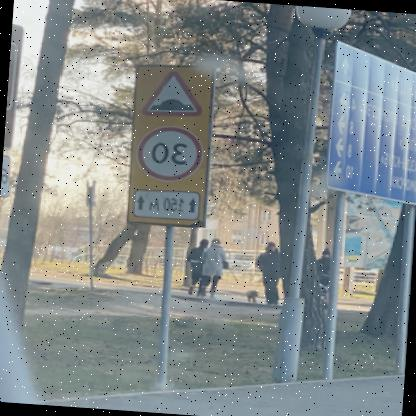speedlimit: (137, 123, 207, 182)
